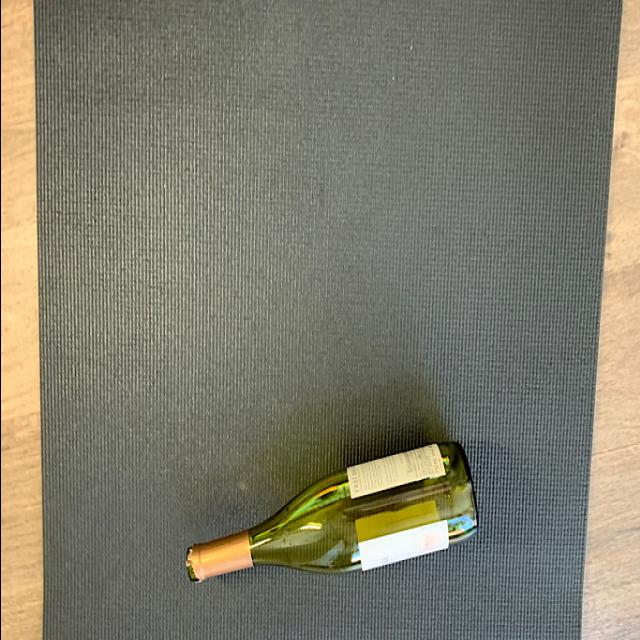Glass Bottle: (180, 438, 482, 586)
